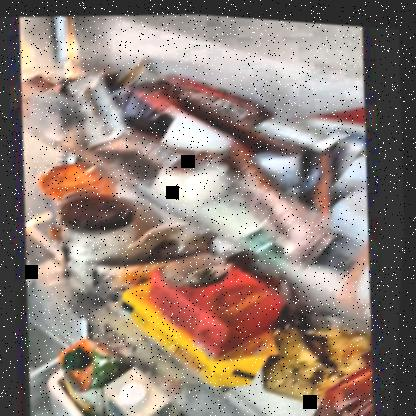butter: (123, 267, 276, 369)
milk: (105, 360, 189, 415)
